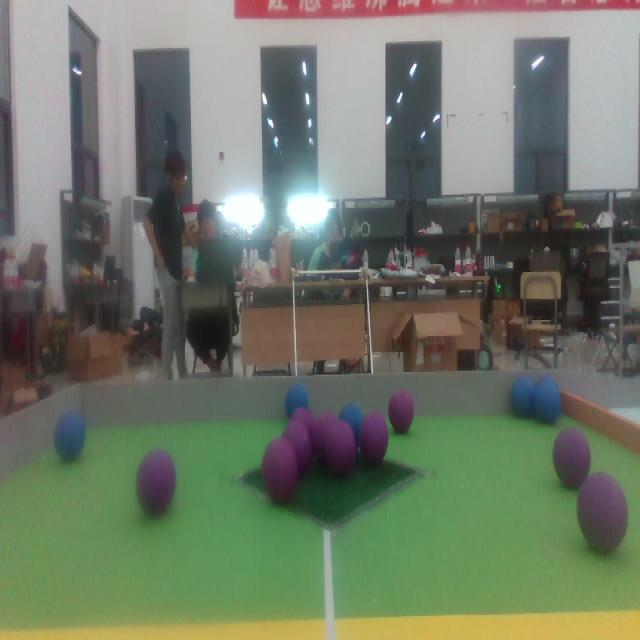blue: (54, 410, 86, 463), (532, 376, 560, 425), (510, 377, 539, 423), (339, 402, 362, 447), (286, 383, 308, 415)
invalid: (573, 471, 629, 556), (136, 441, 178, 520), (260, 440, 298, 504), (553, 427, 589, 491), (358, 409, 387, 470), (284, 416, 311, 470), (326, 421, 354, 470), (386, 386, 415, 432), (313, 413, 341, 459), (291, 406, 310, 428)
